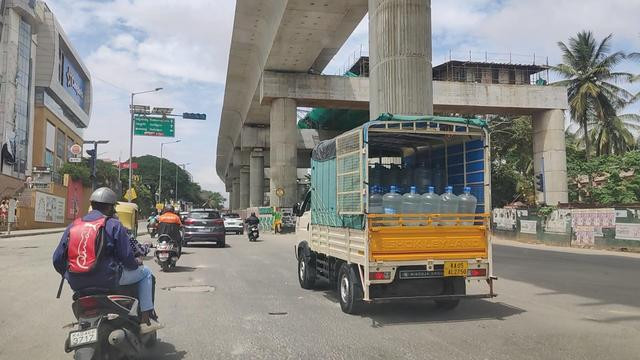HMV: (294, 115, 511, 324)
LMV: (56, 181, 148, 360), (153, 205, 180, 273)
RoadDamages: (165, 278, 222, 295)
